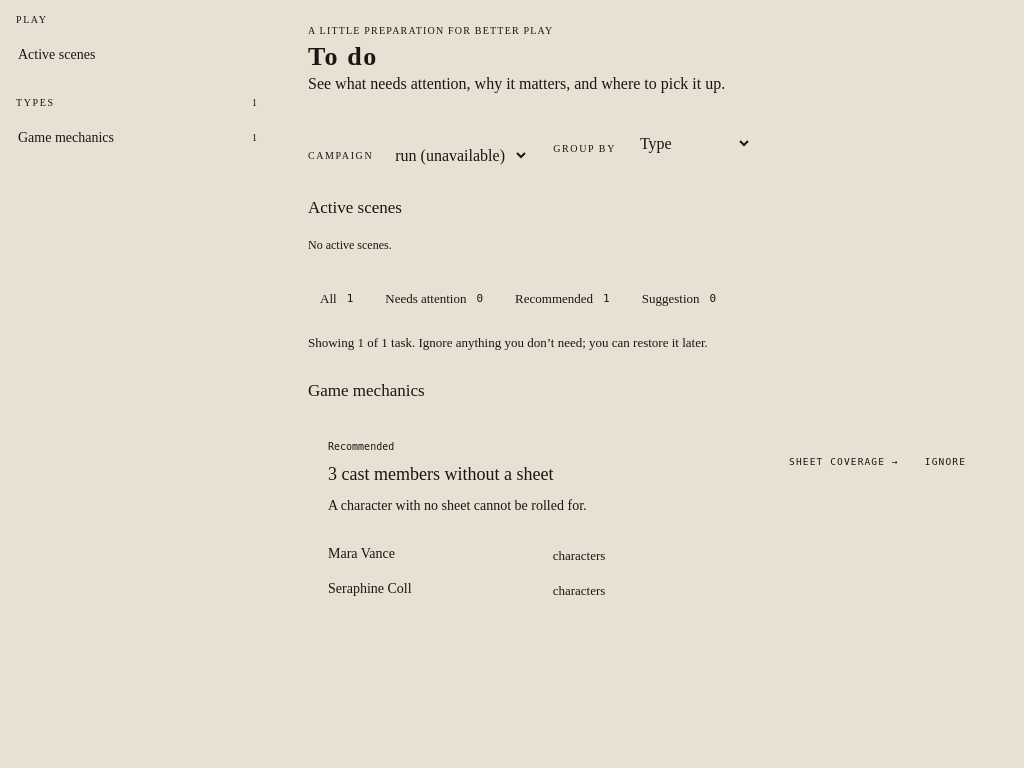
Test case: ignoring re-reads the list rather than patching it
Check: the heading "3 cast members without a sheet" is shown, box [328, 464, 554, 484]
Step 1. Click the button "Ignore" → (945, 462), box [921, 440, 970, 484]
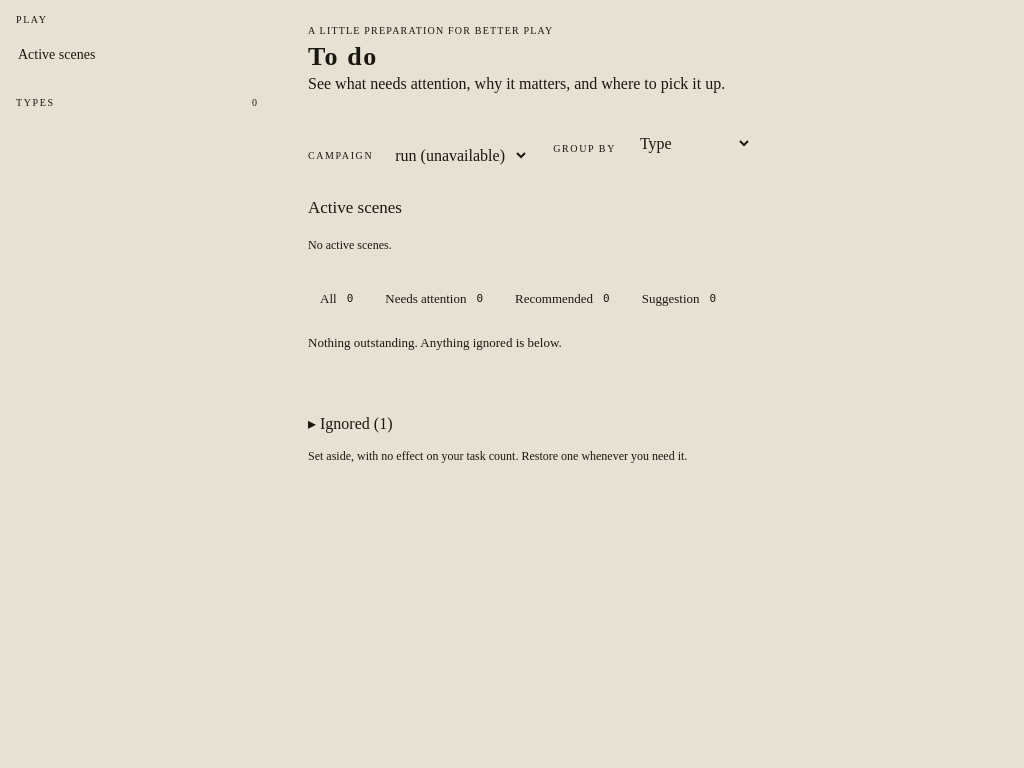
Check: the button "▸ Ignored (1)" is shown, box [308, 402, 392, 446]
